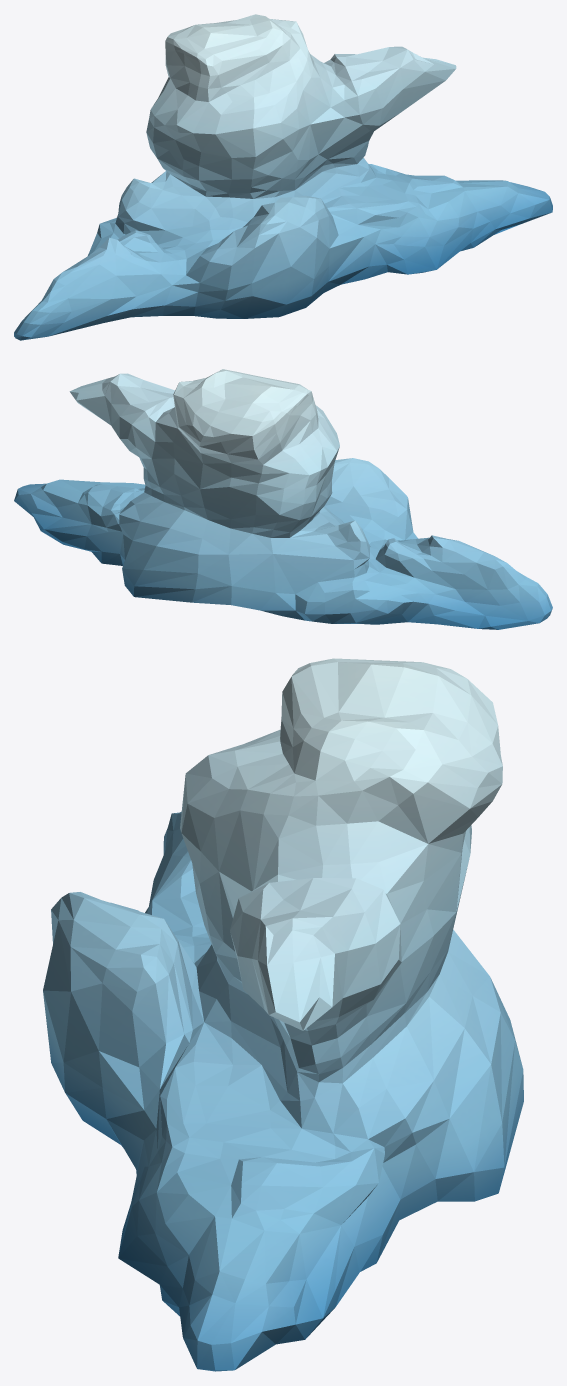
Rendered from Jungle_Clouds_Lrg_B.fbx.
The picture shows the model from 3 angles, top to bottom: view 1: azimuth 30°, elevation 25°; view 2: azimuth 150°, elevation 25°; view 3: azimuth 270°, elevation 25°; orthographic projection. The views are drawn at different scales.
Parts seen in each view (by area): view 1: Jungle_Clouds_Lrg_B; view 2: Jungle_Clouds_Lrg_B; view 3: Jungle_Clouds_Lrg_B.
Boxes of the visible parts, x1,y1,x2,y2 form: Jungle_Clouds_Lrg_B: [14, 14, 552, 340]; Jungle_Clouds_Lrg_B: [14, 369, 552, 629]; Jungle_Clouds_Lrg_B: [43, 658, 523, 1371].
Bounding box in the file's own units: 2549 × 1036 × 1009.
